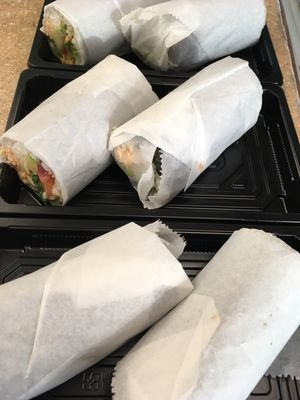burger: (268, 374, 300, 400)
